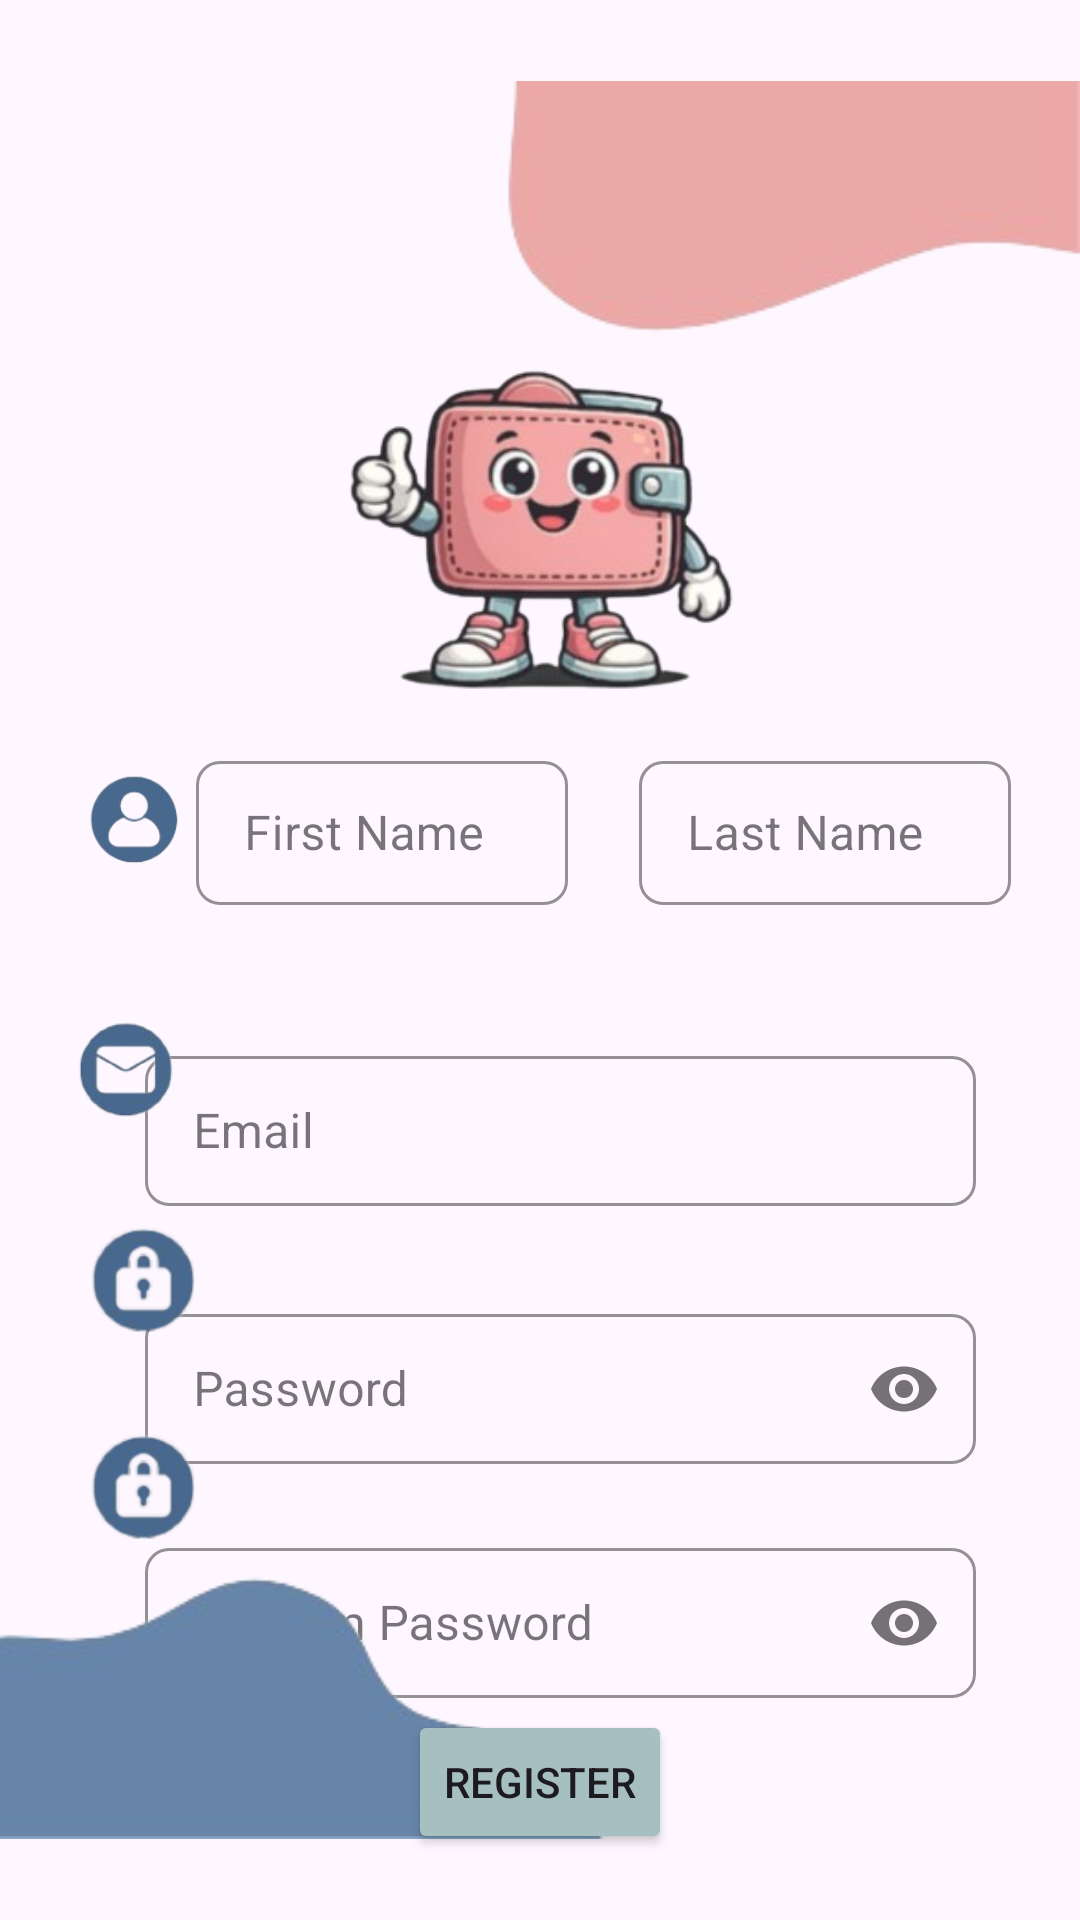

Screen size 1080x1920. Icon name, then its box in pixels as {"x1": x1, "y1": y1, "x2": x2, "y2": y2}:
account: {"x1": 90, "y1": 776, "x2": 178, "y2": 863}
